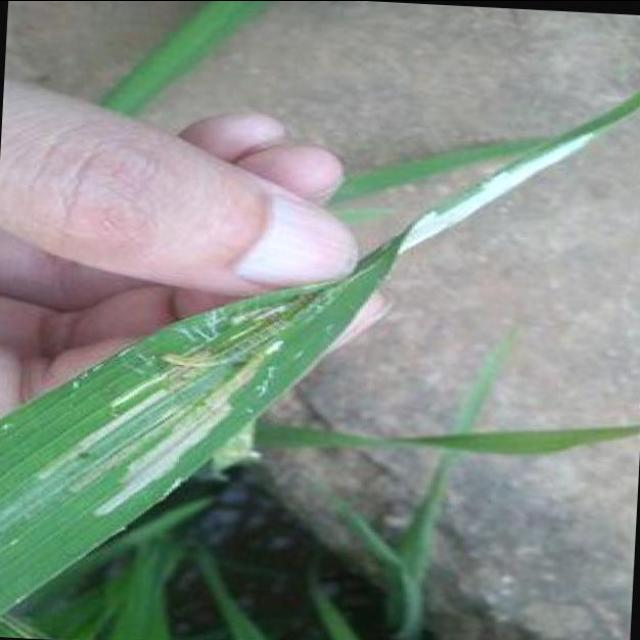leaf folder: (145, 319, 289, 355)
